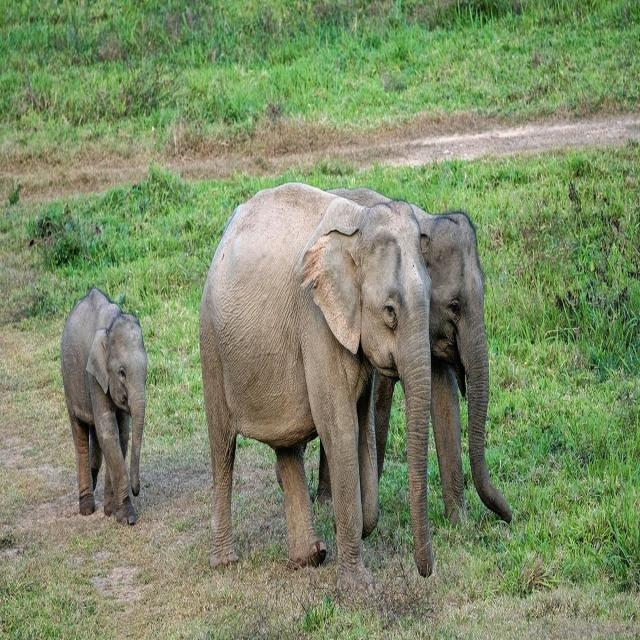Elephant: (189, 196, 440, 578), (406, 210, 530, 546), (55, 296, 155, 530)
